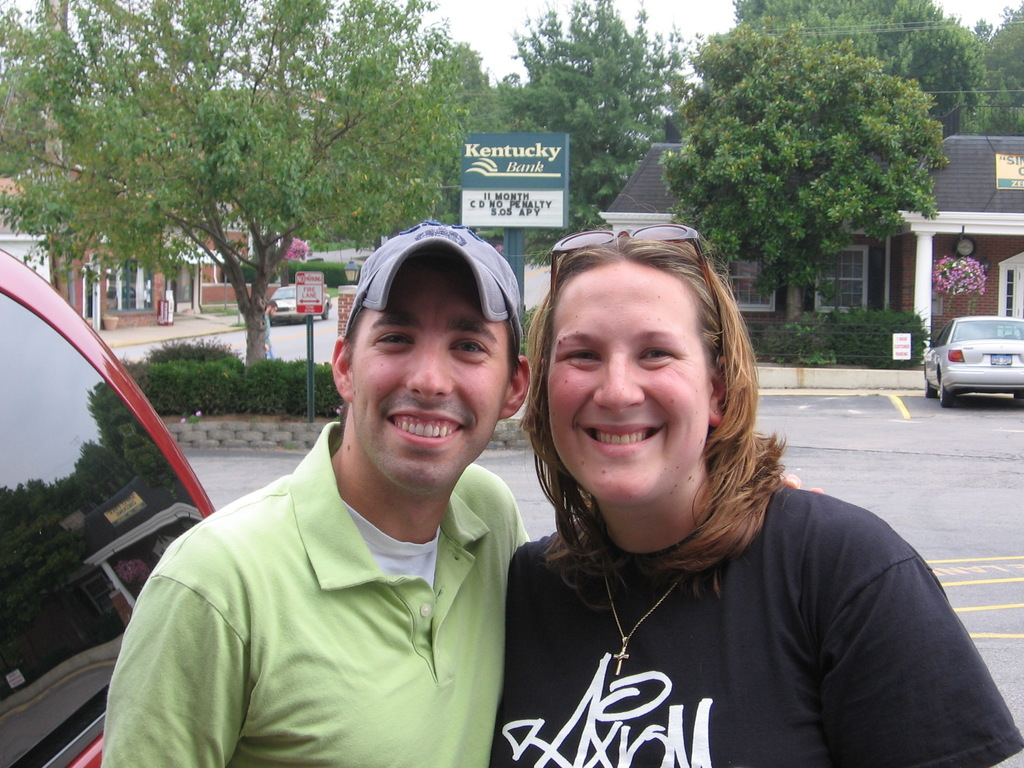Car: (3, 251, 220, 767), (921, 313, 1023, 404), (273, 282, 331, 318)
